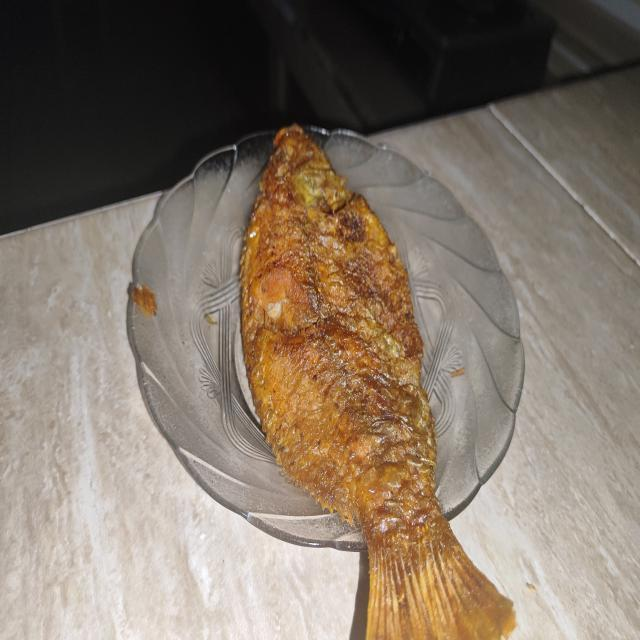ikan_mujair: (240, 124, 516, 640)
